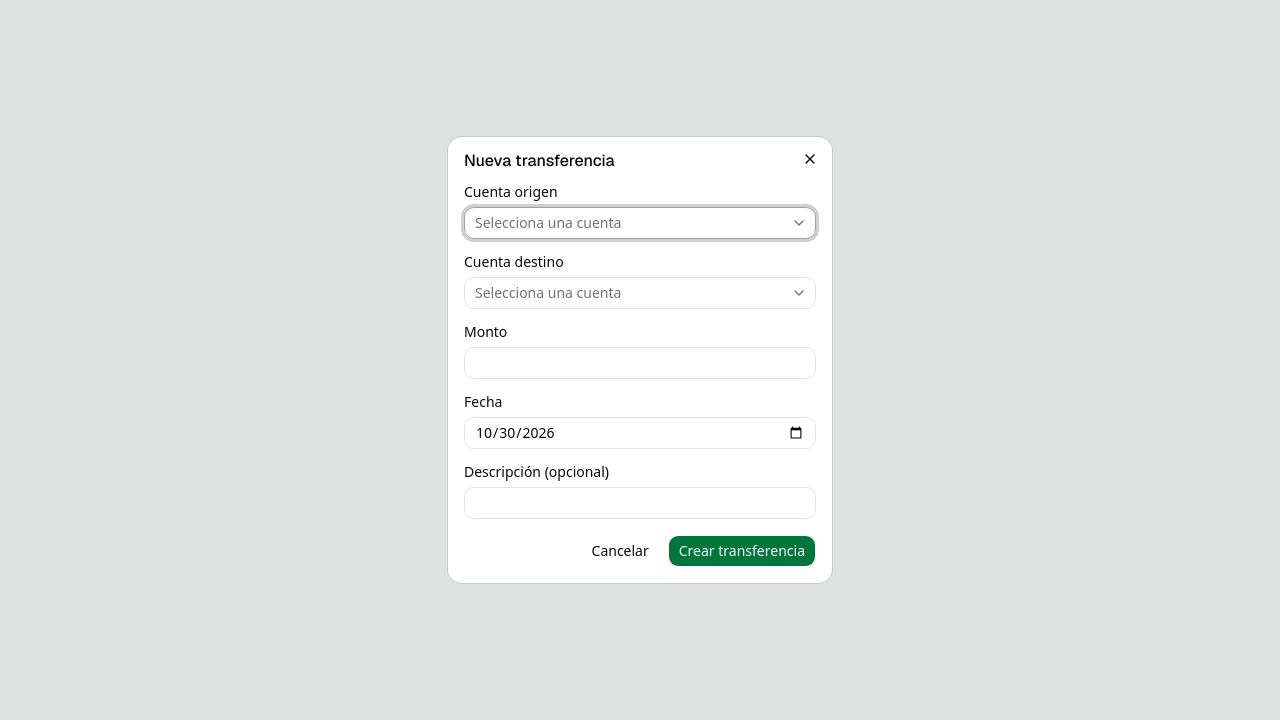
TransferModal › muestra sin transformar el error 400 del backend
Press ArrowDown in the dropdown named "Cuenta origen", box [464,207,816,239]
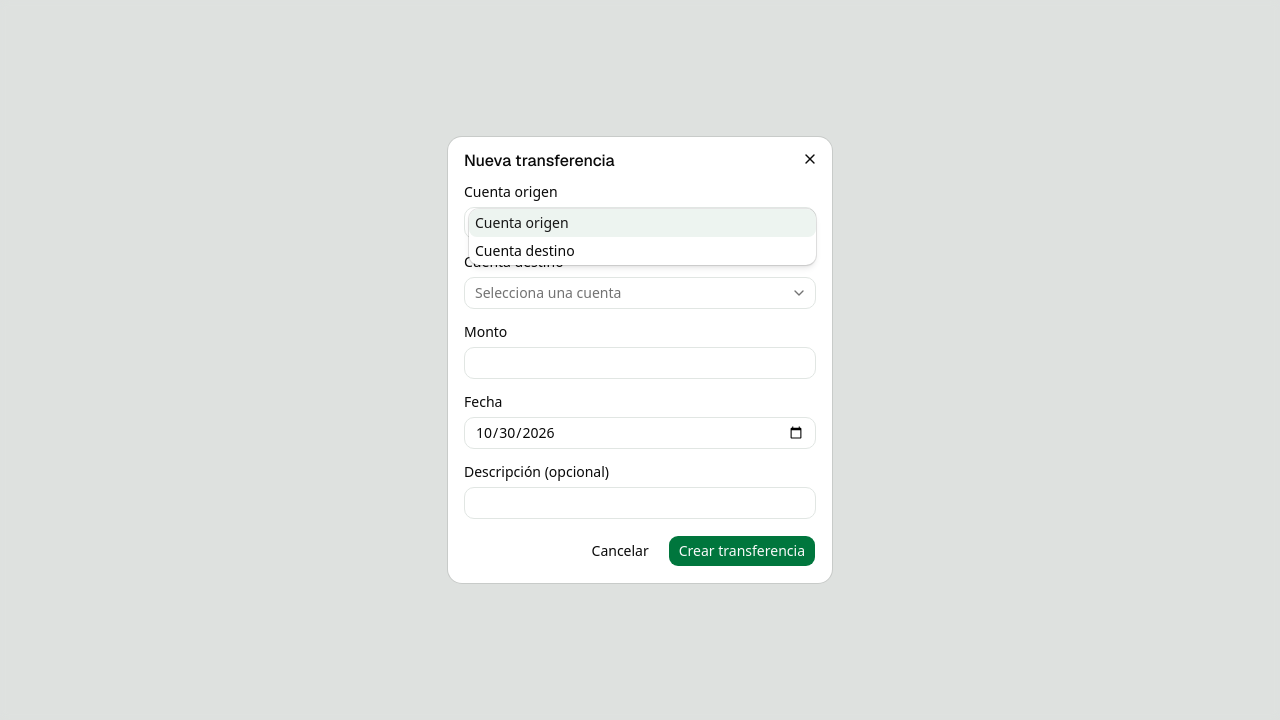
Click the option "Cuenta origen". click: (522, 222)
box: [469,209,816,237]
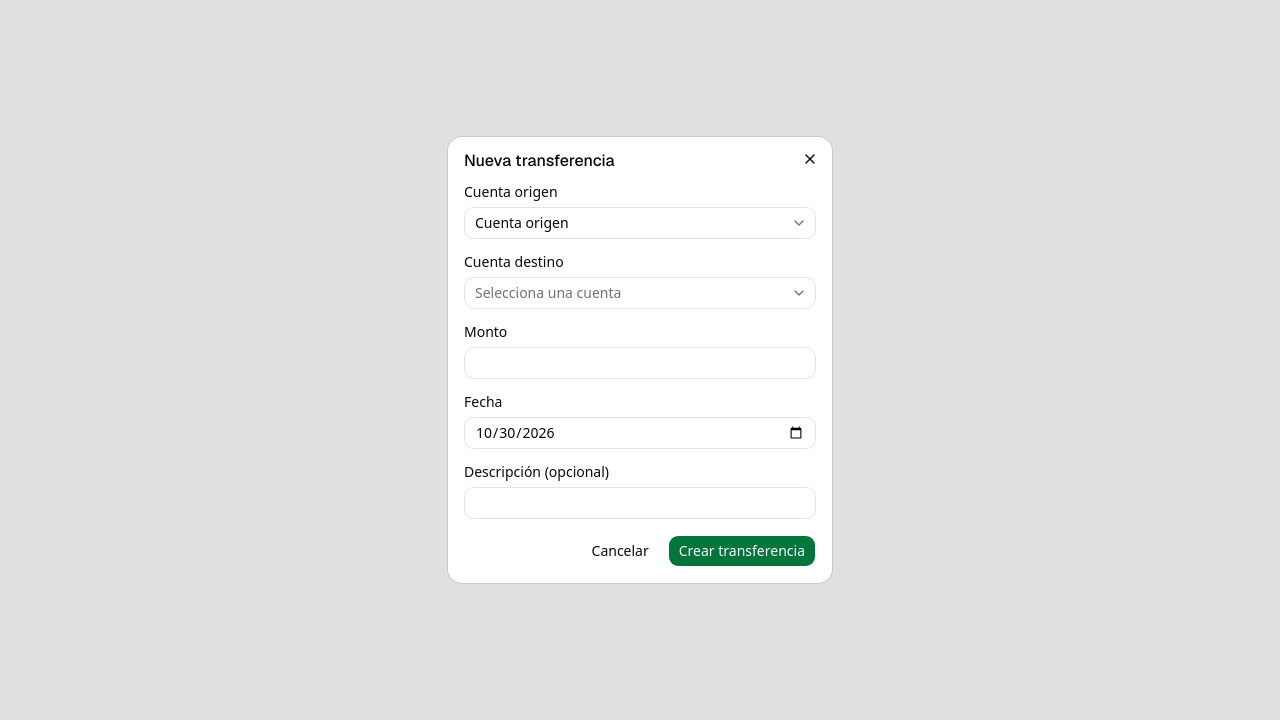
Press ArrowDown in the dropdown named "Cuenta destino", box [464,277,816,309]
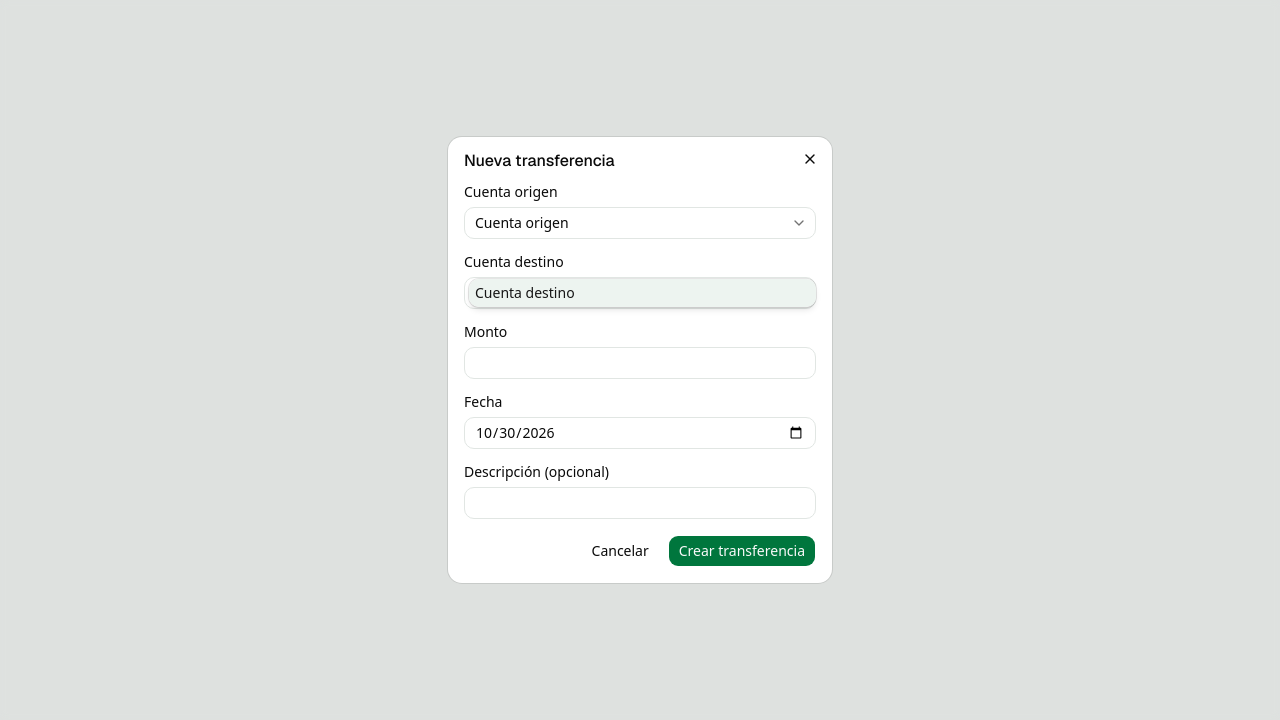
Click the option "Cuenta destino". click: (525, 292)
box: [469,279,816,307]
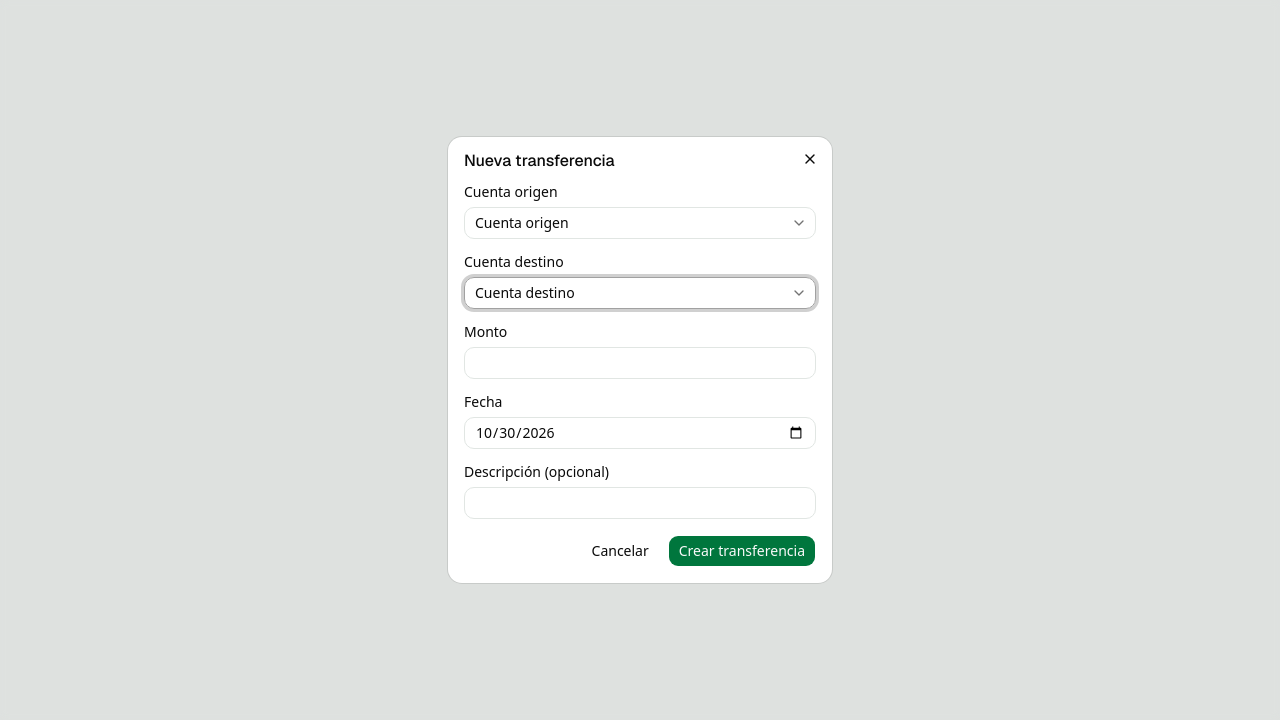
Type "10.00" into the field labelled "Monto". click: (640, 363)
box: [464,347,816,379]
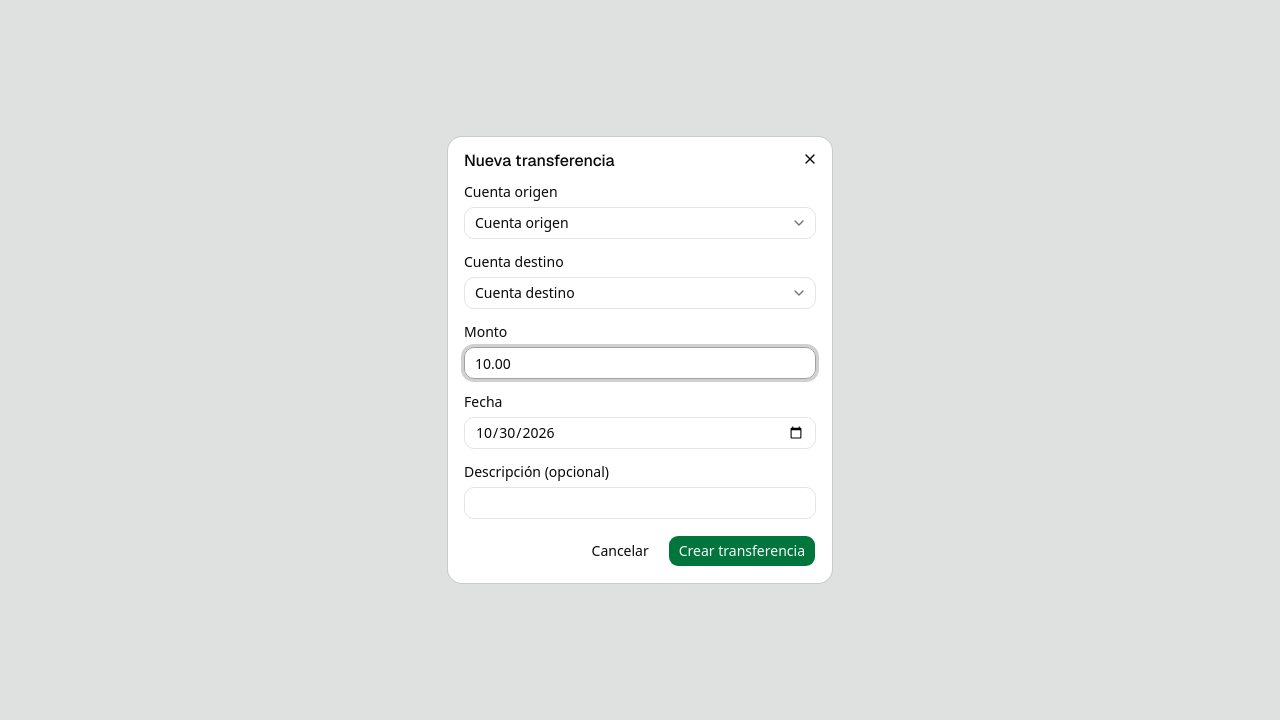
Type "2099-01-01" into the date field labelled "Fecha". click: (640, 433)
box: [464,417,816,449]
Click the button "Crear transferencia". click: (742, 551)
box: [668,535,816,567]
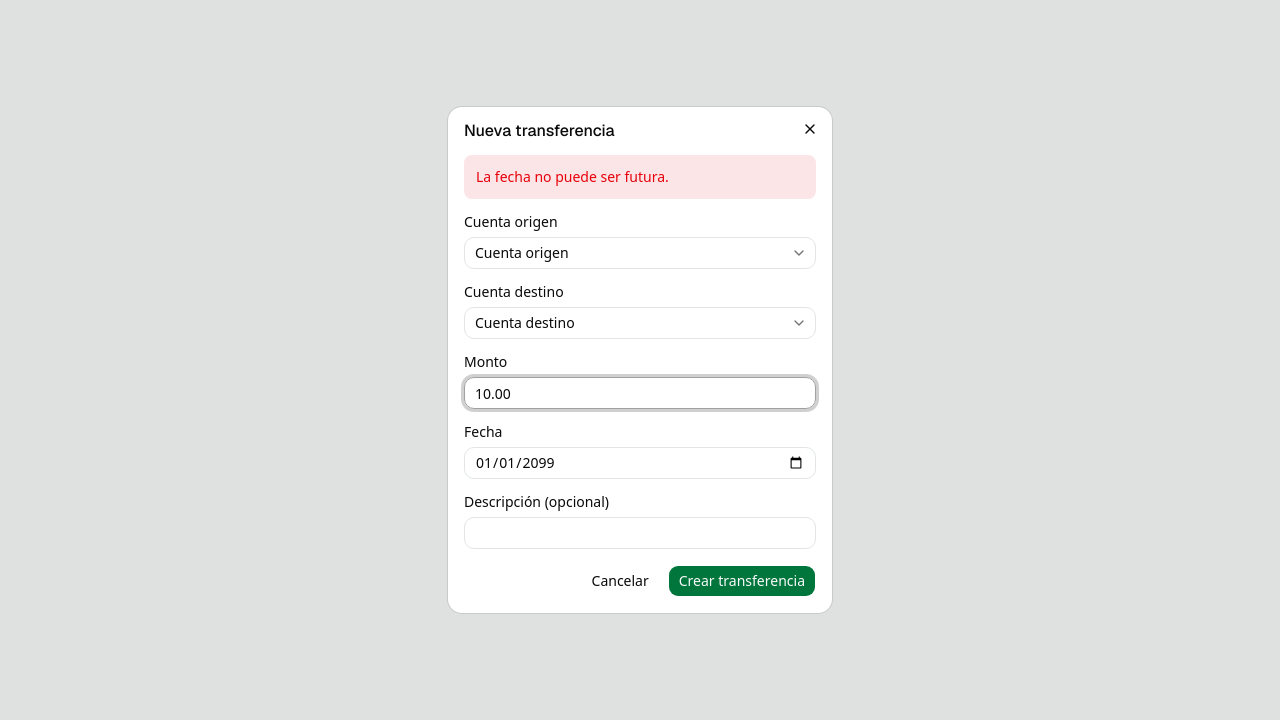
Expected: the message reads "La fecha no puede ser futura.", [476,167,669,186]
